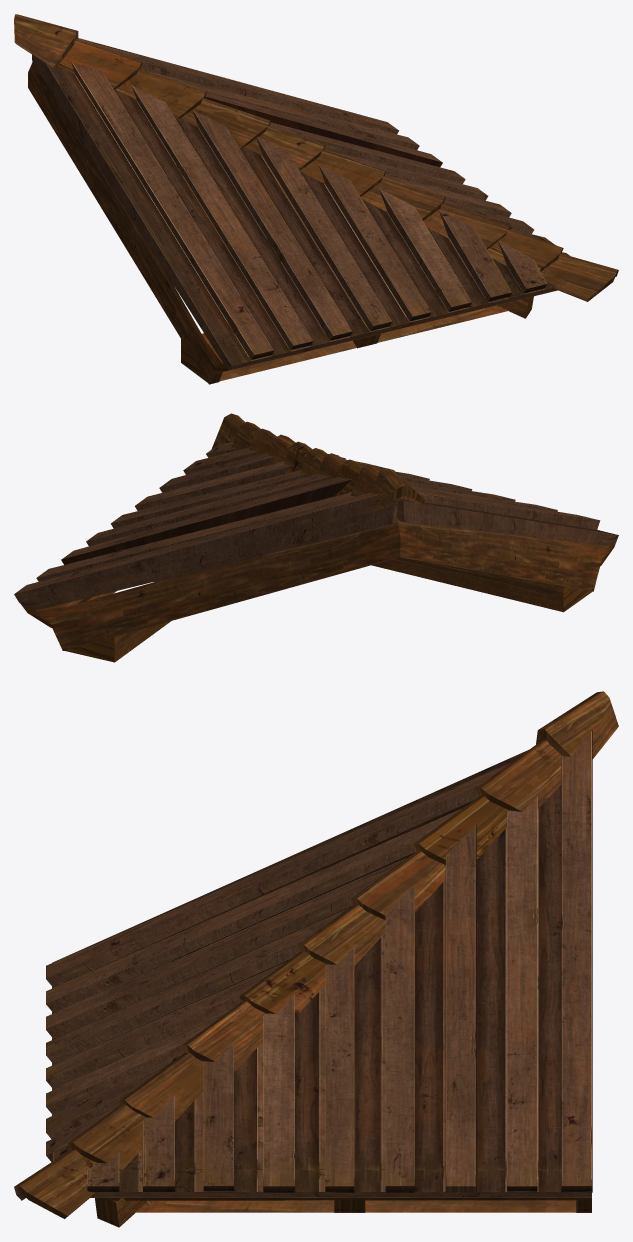
3 views of the same model, one above another, from view 1: azimuth 30°, elevation 25°; view 2: azimuth 150°, elevation 25°; view 3: azimuth 270°, elevation 25° (orthographic). The views are drawn at different scales.
Parts seen in each view (by area): view 1: SM_BB_T2_Roof_Large_Hip_Shallow_LOD0; view 2: SM_BB_T2_Roof_Large_Hip_Shallow_LOD0; view 3: SM_BB_T2_Roof_Large_Hip_Shallow_LOD0.
Boxes of the visible parts, x1=… form: SM_BB_T2_Roof_Large_Hip_Shallow_LOD0: x1=14, y1=14, x2=618, y2=384; SM_BB_T2_Roof_Large_Hip_Shallow_LOD0: x1=14, y1=413, x2=618, y2=662; SM_BB_T2_Roof_Large_Hip_Shallow_LOD0: x1=14, y1=691, x2=618, y2=1227.
Bounding box in the file's own units: 3.79 × 2.22 × 3.79.
2 materials, 2 textured.
